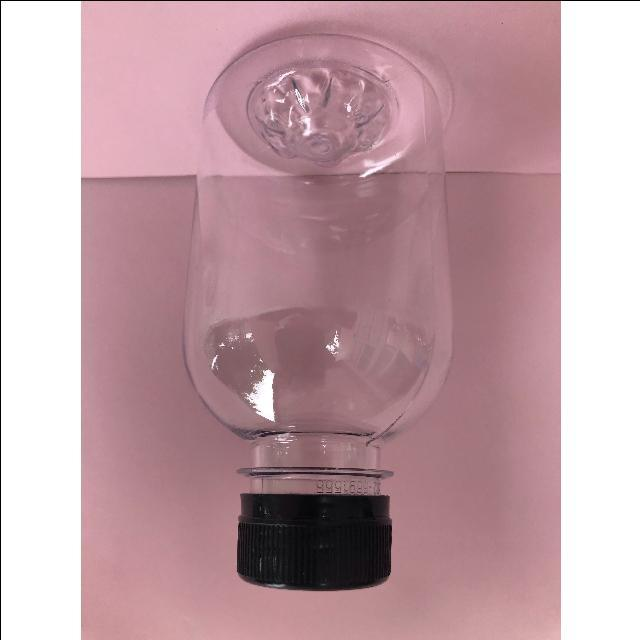PET Bottle: (180, 30, 462, 597)
